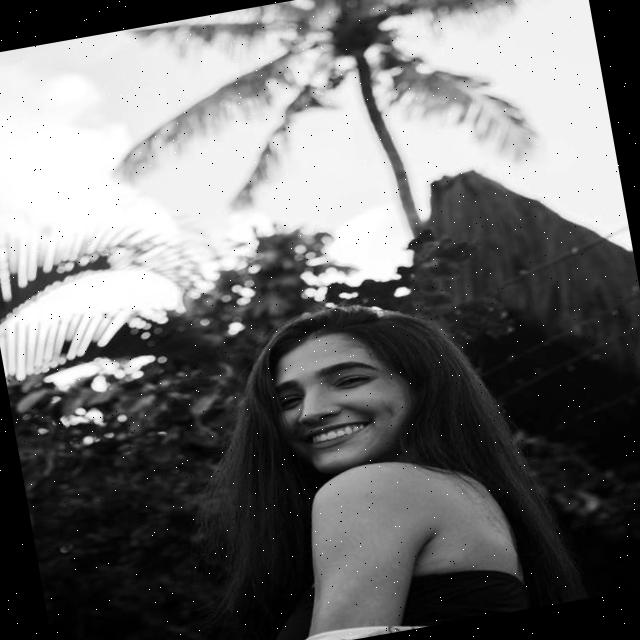Happiness: (255, 314, 428, 484)
